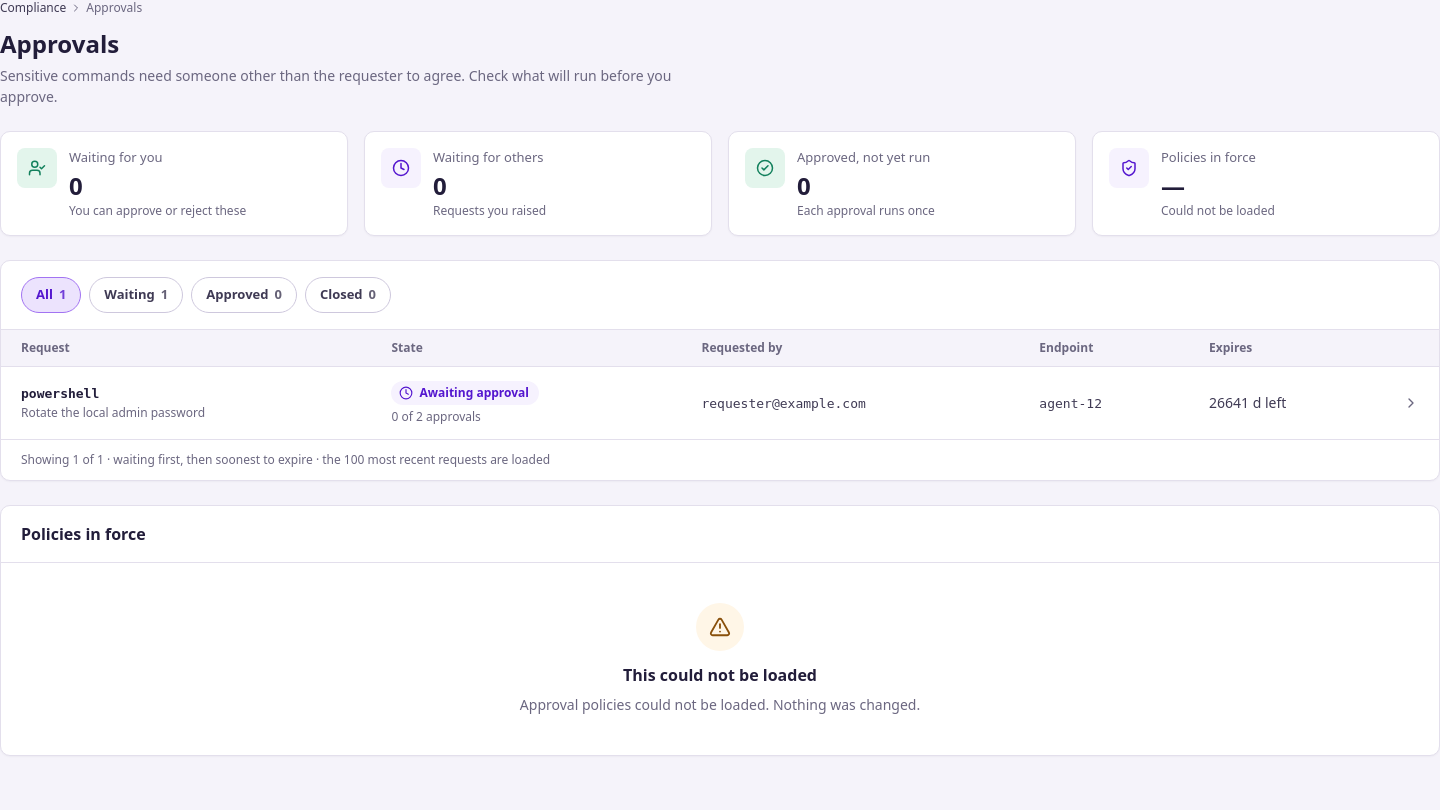
Scenario: an unresolved viewer identity hides the decision controls
This screenshot has width=1440, height=810.
Click the row named "Review powershell request".
click(720, 403)  # box [1, 366, 1439, 439]
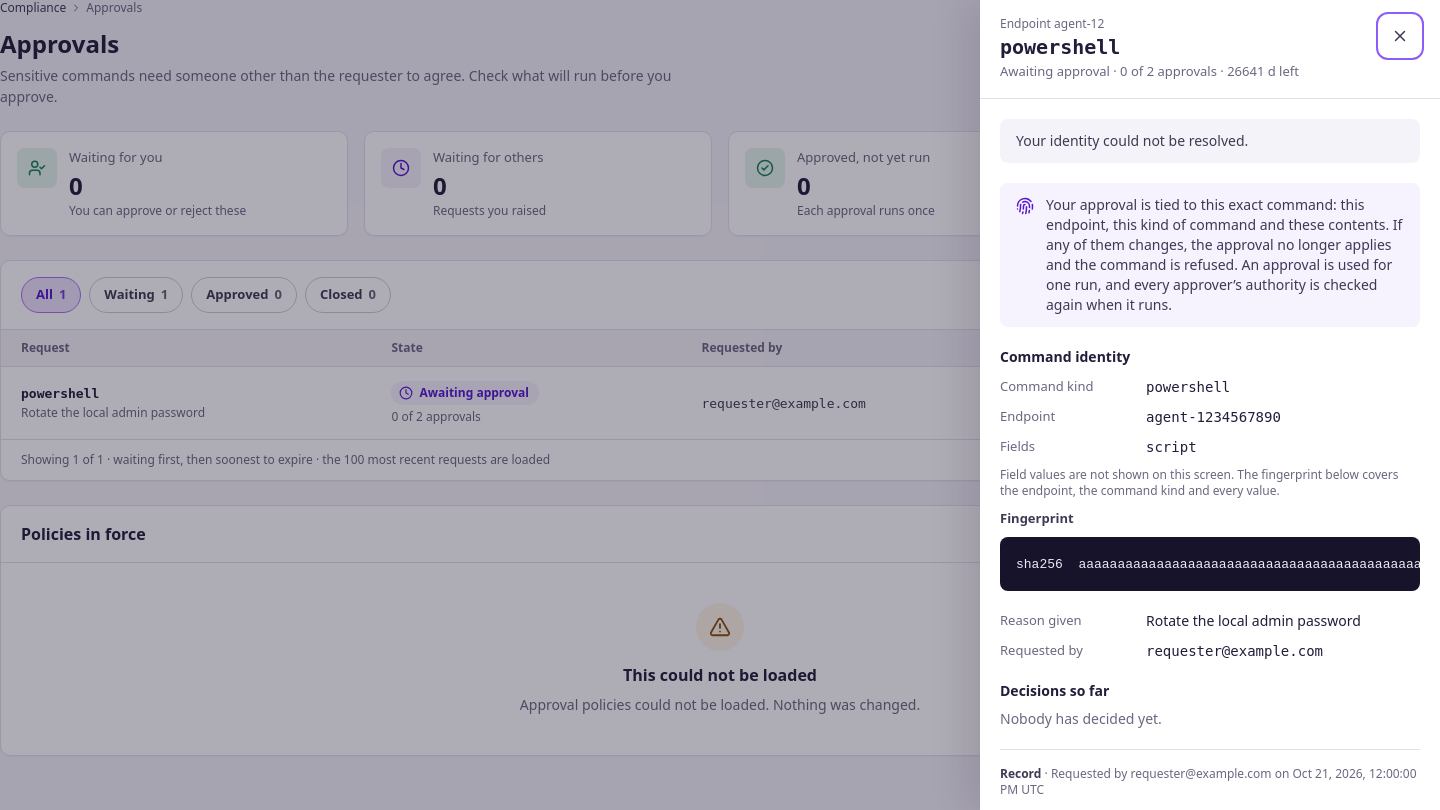
Now the text "Your identity could not be resolved." is shown, box [1000, 118, 1420, 162]
